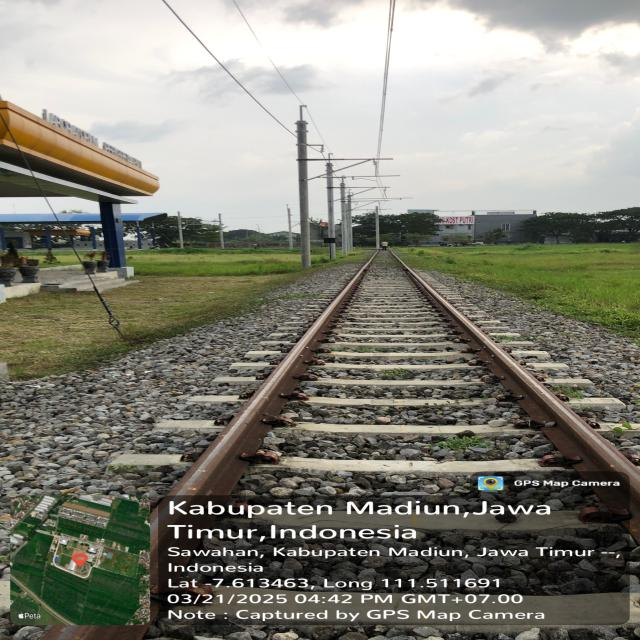rail-detection: (403, 265, 640, 542), (170, 255, 374, 499), (151, 503, 168, 593)
